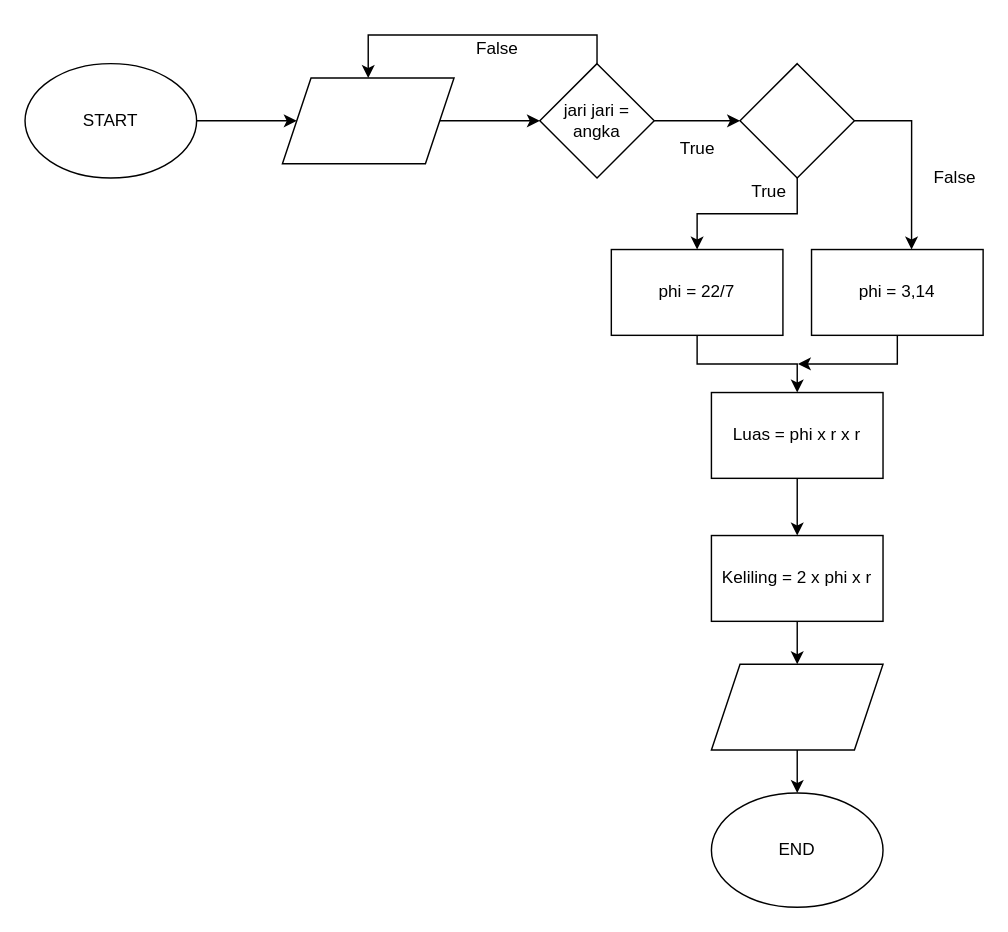
The diagram is 1008 pixels wide and 932 high, and some of its shapes have lost their labels. The shapes that lost their labels are listed below. From the top down, each one's box as (x1, y1, x2, y2) in pixels, then its label:
(281, 77, 454, 164): INPUT jari jari
(739, 62, 854, 178): jari jari %7 = 0
(710, 663, 883, 750): OUTPUT Luas Keliling
